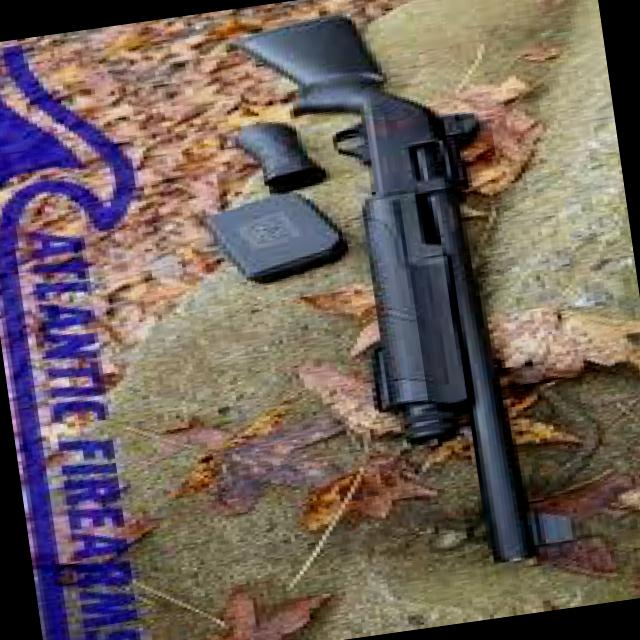long weapon: (192, 0, 602, 586)
